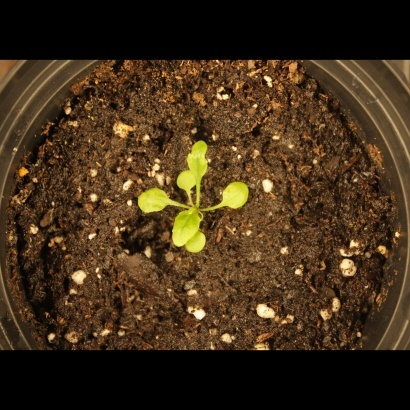leaf: (218, 178, 259, 215), (183, 135, 215, 182), (134, 182, 172, 217), (170, 206, 201, 248), (173, 168, 200, 194), (183, 231, 211, 255)
